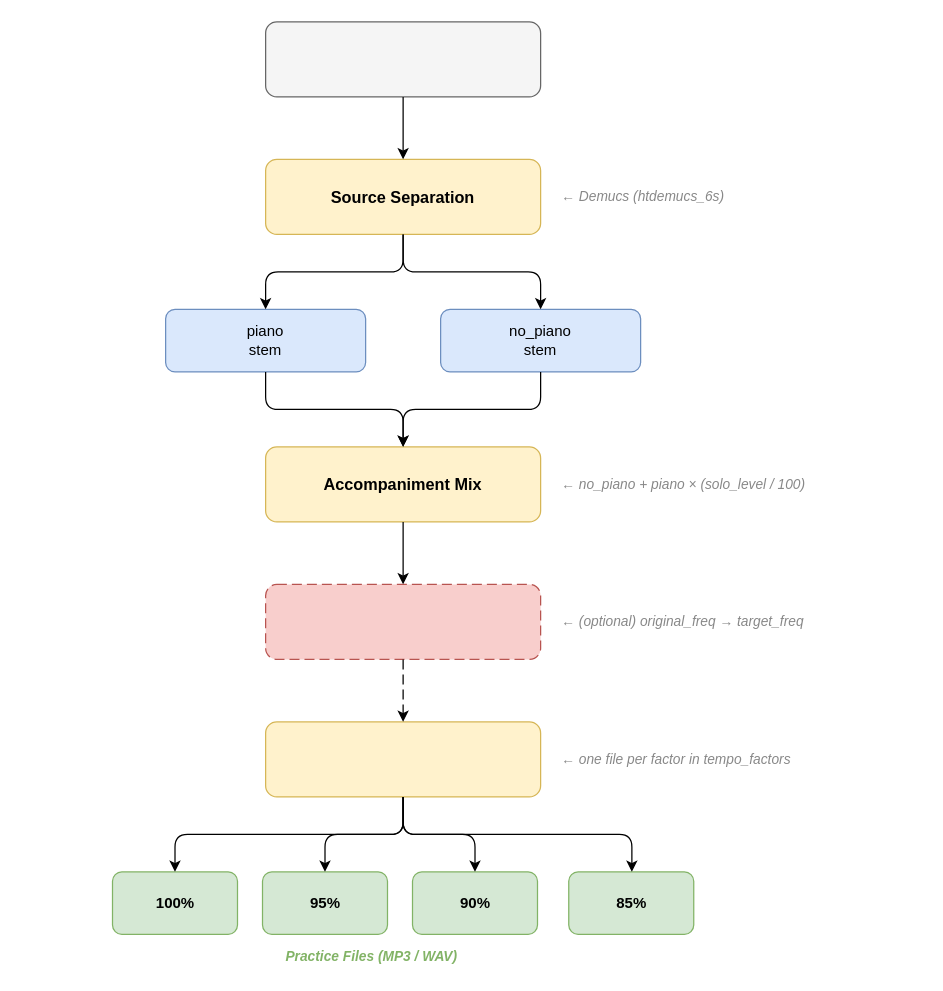
The diagram is 943 pixels wide and 991 high, and some of its shapes have lost their labels. The shapes that lost their labels are listed below. From the top down, each one's centre as x and y in pixels, then its label:
At point 402,59: "Raw Audio (MP3 / WAV)".
At point 402,621: "Pitch Correction".
At point 402,759: "Tempo Variants".
